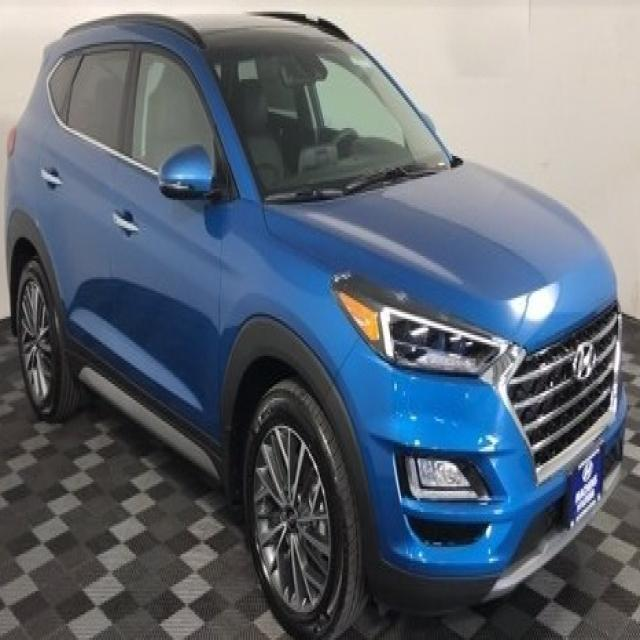blue: (14, 0, 627, 640)
